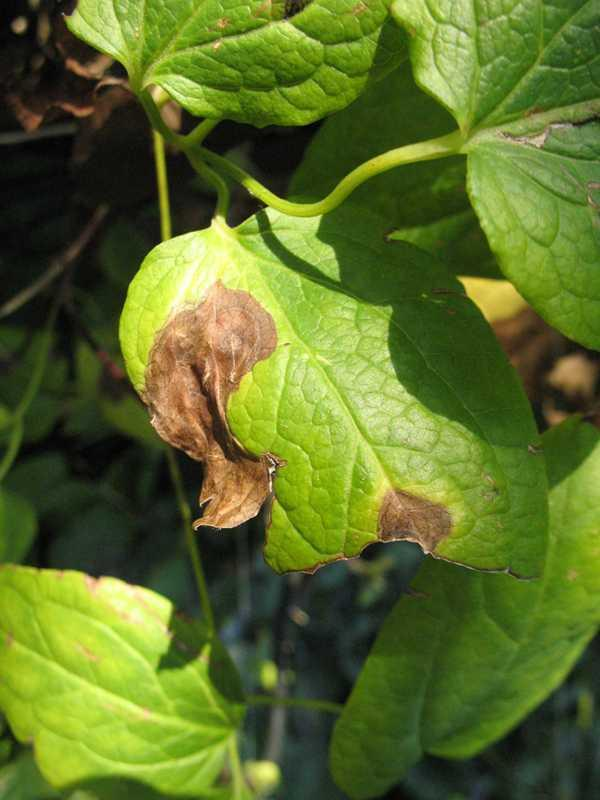Tomato leaf late blight: (96, 201, 552, 583)
